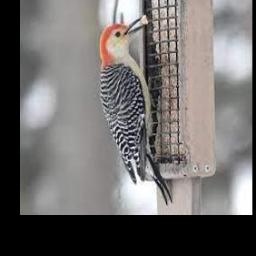Woodpecker: (100, 16, 172, 205)
